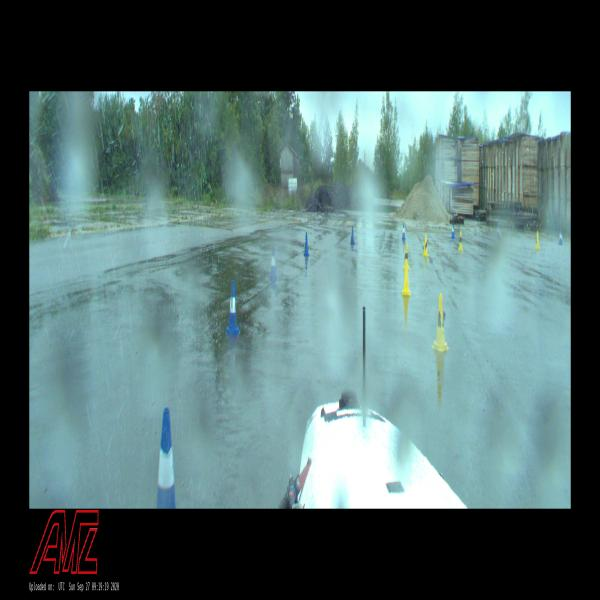blue_cone: (156, 406, 176, 508), (225, 280, 240, 336), (269, 248, 277, 280), (304, 233, 309, 256), (402, 223, 406, 239), (451, 223, 455, 238), (351, 226, 354, 244), (558, 231, 562, 244)
yellow_cone: (432, 294, 450, 352), (402, 259, 410, 296), (403, 242, 410, 270), (458, 231, 464, 250), (423, 234, 428, 256), (534, 231, 540, 249)
